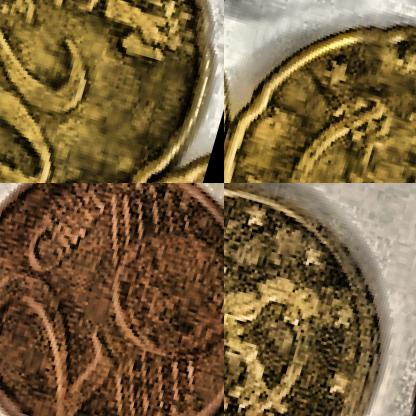coin: (0, 183, 223, 415), (224, 183, 416, 415), (0, 0, 223, 182), (224, 0, 415, 182)
